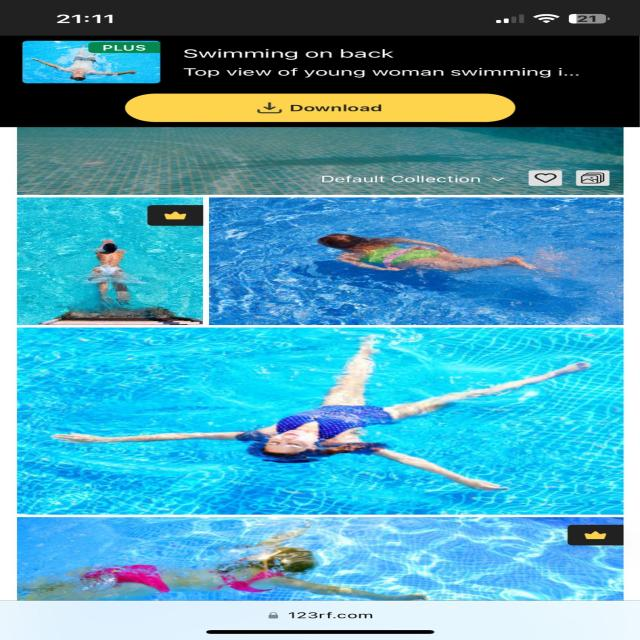Swimming: (59, 349, 589, 485), (34, 538, 423, 598), (309, 228, 543, 277), (81, 235, 140, 303)
